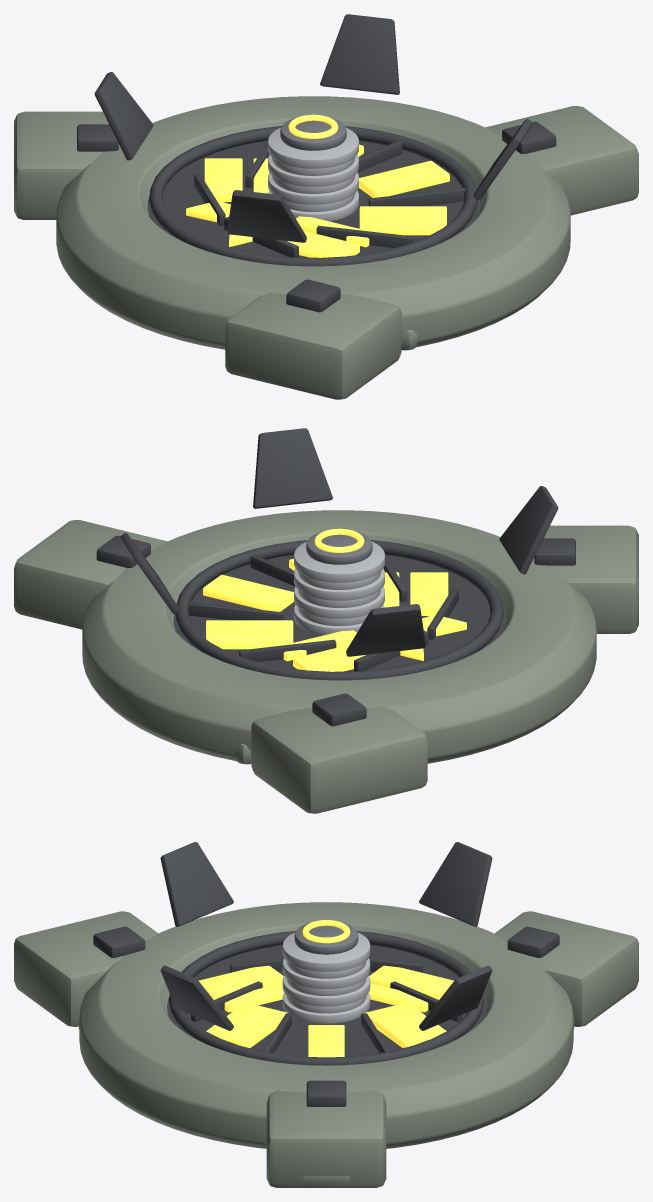
File: hellfire_mine.glb
3 renders of one model, top to bottom at view 1: azimuth 30°, elevation 25°; view 2: azimuth 150°, elevation 25°; view 3: azimuth 270°, elevation 25°, orthographic. The views are drawn at different scales.
Visible parts, largest first — view 1: Shell, Cube.029, Cube.031, Torus, Cube.034, Cylinder, Cube.038, Cube.040, Cube.039, Cylinder.007, Cube.006, Cube.005 (+21 smaller); view 2: Shell, Cube.034, Cube.031, Torus, Cube.029, Cylinder, Cube.041, Cube.039, Cube.040, Cylinder.007, Cube.007, Cube.004 (+22 smaller); view 3: Shell, Cube.031, Cube.029, Cube.034, Torus, Cylinder, Cube.039, Cube.040, Cube.038, Cube.041, Cylinder.007, Cube.004 (+21 smaller).
Part boxes in pixels (<box>): Shell: <box>56,96,570,349</box>; Cube.029: <box>225,293,401,399</box>; Cube.031: <box>485,106,638,215</box>; Torus: <box>149,126,477,266</box>; Cube.034: <box>14,111,108,219</box>; Cylinder: <box>147,141,479,257</box>; Cube.038: <box>320,14,399,94</box>; Cube.040: <box>227,190,306,242</box>; Cube.039: <box>94,72,153,160</box>; Cylinder.007: <box>268,127,358,168</box>; Cube.006: <box>359,160,449,197</box>; Cube.005: <box>359,213,446,235</box>; Shell: <box>82,510,596,763</box>; Cube.034: <box>251,707,427,813</box>; Cube.031: <box>14,520,167,629</box>; Torus: <box>175,540,503,680</box>; Cube.029: <box>544,525,638,633</box>; Cylinder: <box>173,555,505,671</box>; Cube.041: <box>253,428,332,508</box>; Cube.039: <box>346,604,425,656</box>; Cube.040: <box>499,486,558,574</box>; Cylinder.007: <box>294,541,384,582</box>; Cube.007: <box>206,626,293,649</box>; Cube.004: <box>410,572,448,615</box>; Shell: <box>79,902,573,1148</box>; Cube.031: <box>266,1090,386,1187</box>; Cube.029: <box>14,911,158,1026</box>; Cube.034: <box>494,911,638,1026</box>; Torus: <box>168,931,484,1065</box>; Cylinder: <box>167,945,485,1056</box>; Cube.039: <box>419,842,492,926</box>; Cube.040: <box>160,842,233,926</box>; Cube.038: <box>419,965,492,1030</box>; Cube.041: <box>160,965,233,1030</box>; Cylinder.007: <box>282,932,370,971</box>; Cube.004: <box>199,965,283,999</box>.
Bounding box in the file's own units: 0.725 × 0.1958 × 0.7842.
